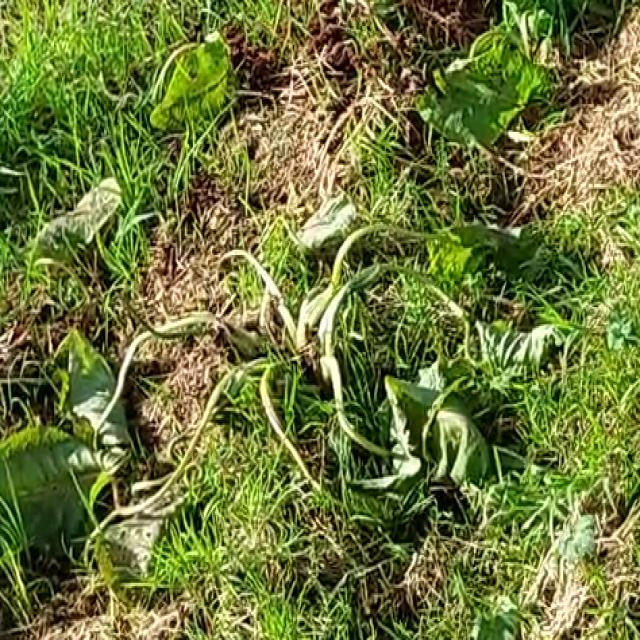organic waste: (289, 191, 563, 532), (1, 314, 182, 593), (77, 28, 309, 163), (402, 0, 559, 160), (0, 182, 186, 315)
